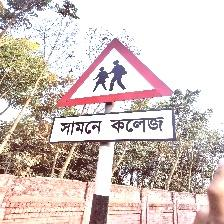College-in-front: (44, 30, 190, 159)
